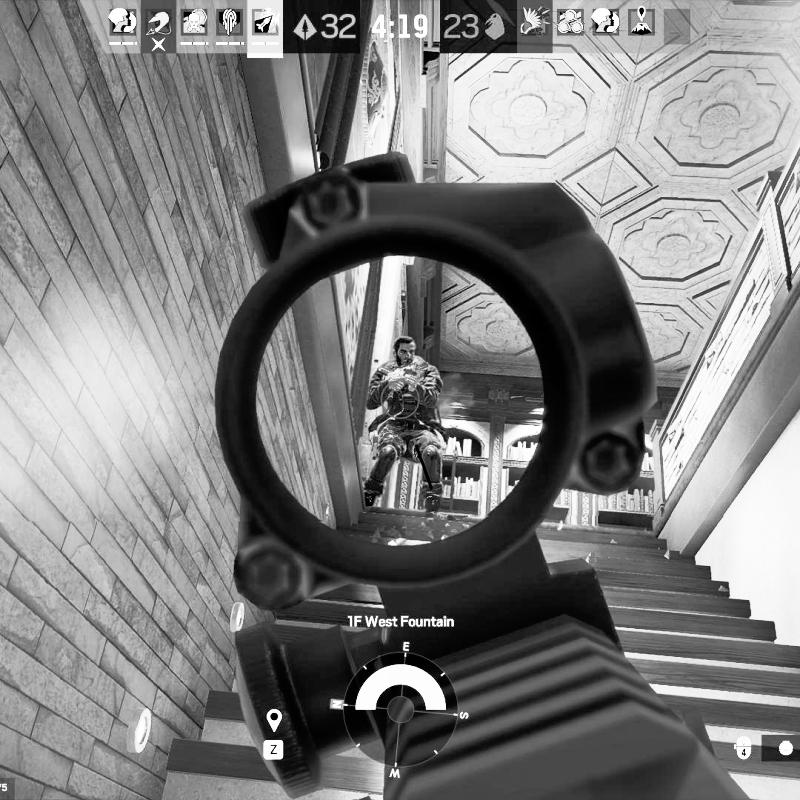Character: (359, 335, 451, 515)
Head: (392, 335, 415, 365)
